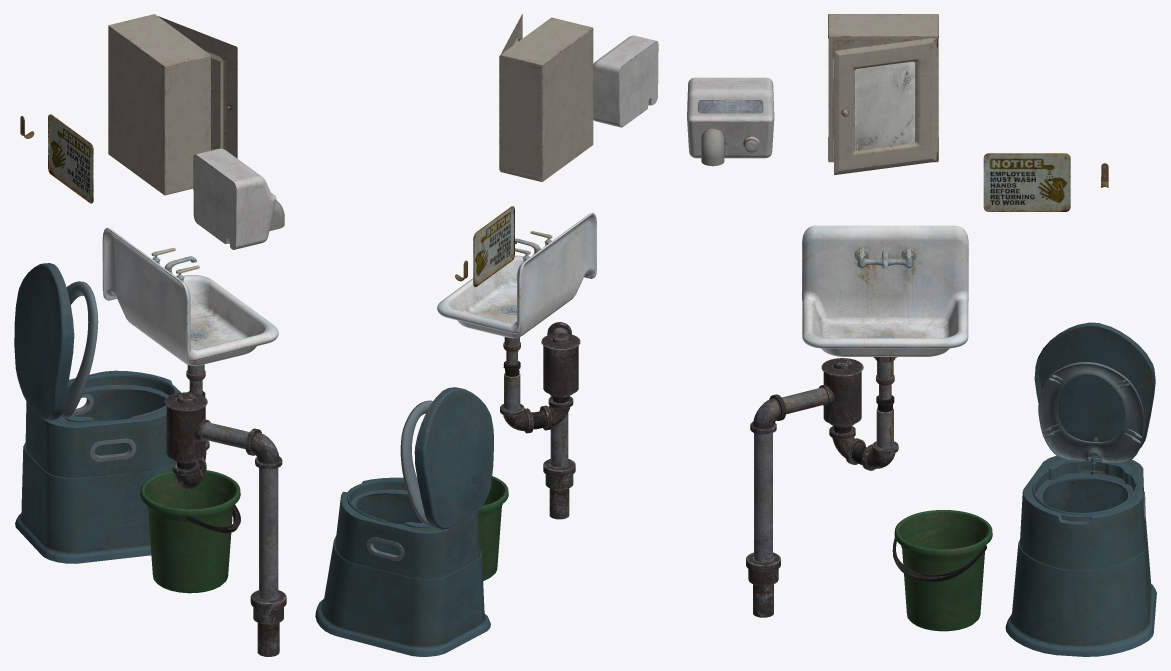
File: shower_room_-_assets.glb
3 views of the same model, side by side, from view 1: azimuth 30°, elevation 25°; view 2: azimuth 150°, elevation 25°; view 3: azimuth 270°, elevation 25° (orthographic). The views are drawn at different scales.
Parts seen in each view (by area): view 1: Toilet_Base_LP_27, MirrorCabinet_LP_4, BathroomSink_LP_11, PlasticBucket_Simple_LP_15, Sink_Pipes_Floor_LP_9, Toilet_Lid_LP_22, HandDryer_LP_5, Sign_LP_13, Toilet_Inside_LP_17, MirrorCabinet_Door_LP_2, Toilet_Seat_LP_26, Sink_Pipes_LP_10 (+3 smaller); view 2: Toilet_Base_LP_27, MirrorCabinet_LP_4, BathroomSink_LP_11, Toilet_Lid_LP_22, HandDryer_LP_5, Sink_Pipes_Floor_LP_9, Sink_Pipes_LP_10, Sign_LP_13, PlasticBucket_Simple_LP_15, Toilet_Inside_LP_17, Toilet_Seat_LP_26, MirrorCabinet_Door_LP_2; view 3: Toilet_Base_LP_27, BathroomSink_LP_11, PlasticBucket_Simple_LP_15, Toilet_Lid_LP_22, MirrorCabinet_Door_LP_2, Sink_Pipes_Floor_LP_9, HandDryer_LP_5, Sign_LP_13, Toilet_Seat_LP_26, MirrorCabinet_Mirror_LP_0, MirrorCabinet_LP_4, Sink_Pipes_LP_10 (+3 smaller).
Boxes of the visible parts, x1,y1,x2,y2 form: Toilet_Base_LP_27: (15, 370, 180, 563); MirrorCabinet_LP_4: (108, 14, 210, 195); BathroomSink_LP_11: (102, 227, 278, 365); PlasticBucket_Simple_LP_15: (140, 470, 240, 593); Sink_Pipes_Floor_LP_9: (164, 392, 286, 656); Toilet_Lid_LP_22: (14, 263, 74, 420); HandDryer_LP_5: (193, 148, 284, 249); Sign_LP_13: (48, 114, 93, 203); Toilet_Inside_LP_17: (74, 390, 165, 455); MirrorCabinet_Door_LP_2: (158, 16, 237, 158); Toilet_Seat_LP_26: (60, 281, 98, 418); Sink_Pipes_LP_10: (172, 334, 209, 489); Toilet_Base_LP_27: (315, 477, 490, 656); MirrorCabinet_LP_4: (500, 17, 593, 181); BathroomSink_LP_11: (437, 212, 596, 338); Toilet_Lid_LP_22: (414, 387, 493, 529); HandDryer_LP_5: (593, 35, 658, 127); Sink_Pipes_Floor_LP_9: (541, 322, 580, 519); Sink_Pipes_LP_10: (500, 309, 573, 433); Sign_LP_13: (473, 206, 514, 286); PlasticBucket_Simple_LP_15: (478, 476, 508, 580); Toilet_Inside_LP_17: (356, 494, 422, 555); Toilet_Seat_LP_26: (400, 400, 432, 525); MirrorCabinet_Door_LP_2: (499, 14, 522, 170); Toilet_Base_LP_27: (1005, 455, 1156, 656); BathroomSink_LP_11: (802, 225, 968, 356); PlasticBucket_Simple_LP_15: (894, 510, 992, 631); Toilet_Lid_LP_22: (1034, 322, 1155, 457); MirrorCabinet_Door_LP_2: (834, 37, 938, 174); Sink_Pipes_Floor_LP_9: (746, 358, 863, 617); HandDryer_LP_5: (687, 77, 774, 166); Sign_LP_13: (983, 153, 1070, 211); Toilet_Seat_LP_26: (1038, 362, 1144, 463); MirrorCabinet_Mirror_LP_0: (855, 61, 915, 150); MirrorCabinet_LP_4: (828, 14, 938, 162); Sink_Pipes_LP_10: (829, 357, 898, 470).
Size of the model in its own units: 0.5579 by 1.83 by 1.38.
Materials: 4 (4 with a texture image).
